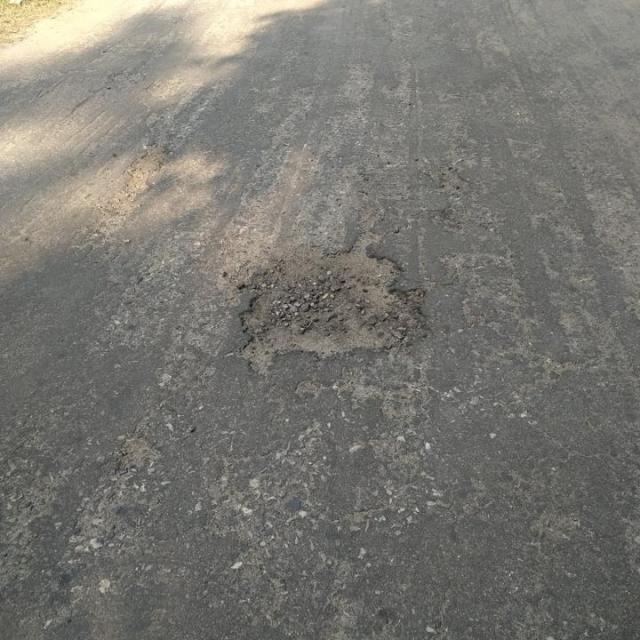pothole: (228, 232, 438, 374), (116, 432, 169, 474)
